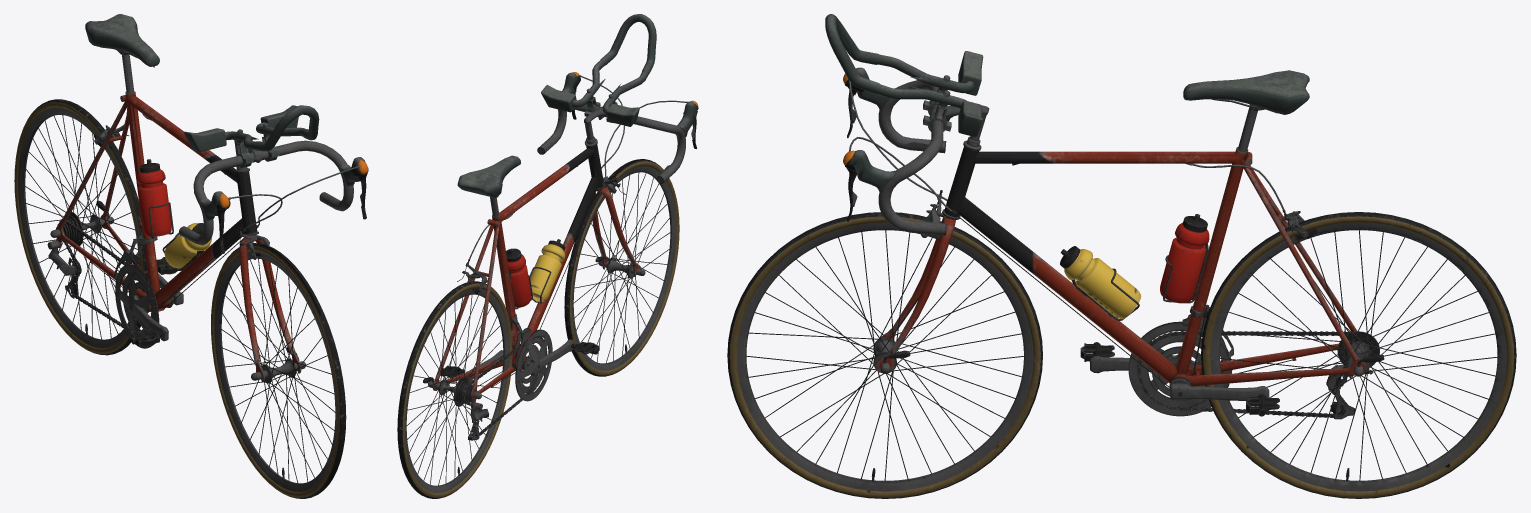
The model's file is rapid-racing-bike.glb.
The picture shows the model from 3 angles, left to right: view 1: azimuth 30°, elevation 25°; view 2: azimuth 150°, elevation 25°; view 3: azimuth 270°, elevation 25°; orthographic projection. The views are drawn at different scales.
Parts seen in each view (by area): view 1: Object_11, Object_10, Object_3, Object_8, Object_5, Object_6, Object_12, Object_7, Object_4, Object_9; view 2: Object_11, Object_10, Object_3, Object_8, Object_5, Object_6, Object_12, Object_4, Object_7, Object_9; view 3: Object_11, Object_10, Object_3, Object_8, Object_6, Object_5, Object_4, Object_12, Object_7, Object_9.
Part boxes in pixels (left/top/right/bottom): Object_11: left=23, top=93, right=368, bottom=497; Object_10: left=18, top=51, right=365, bottom=483; Object_3: left=14, top=55, right=362, bottom=498; Object_8: left=45, top=20, right=367, bottom=443; Object_5: left=24, top=50, right=367, bottom=401; Object_6: left=33, top=28, right=365, bottom=439; Object_12: left=50, top=14, right=283, bottom=467; Object_7: left=23, top=51, right=368, bottom=415; Object_4: left=57, top=51, right=366, bottom=404; Object_9: left=23, top=93, right=367, bottom=399; Object_11: left=397, top=14, right=698, bottom=498; Object_10: left=405, top=18, right=697, bottom=492; Object_3: left=403, top=17, right=696, bottom=497; Object_8: left=421, top=18, right=696, bottom=448; Object_5: left=432, top=23, right=695, bottom=485; Object_6: left=412, top=17, right=693, bottom=469; Object_12: left=428, top=138, right=626, bottom=467; Object_4: left=438, top=20, right=697, bottom=441; Object_7: left=436, top=73, right=696, bottom=485; Object_9: left=432, top=82, right=628, bottom=485; Object_11: left=729, top=14, right=1516, bottom=498; Object_10: left=746, top=51, right=1501, bottom=486; Object_3: left=727, top=65, right=1514, bottom=498; Object_8: left=799, top=21, right=1506, bottom=491; Object_6: left=800, top=18, right=1507, bottom=490; Object_5: left=844, top=75, right=1507, bottom=489; Object_4: left=826, top=76, right=1506, bottom=490; Object_12: left=873, top=70, right=1368, bottom=468; Object_7: left=845, top=62, right=1495, bottom=481; Object_9: left=845, top=77, right=1494, bottom=481.
Size of the model in its own units: 44.39 by 113 by 168.
1 material, 1 textured.
